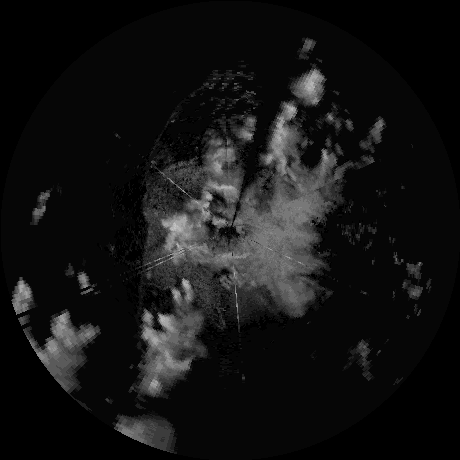frontgust: (144, 79, 212, 173)
